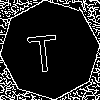T: (25, 25, 61, 74)
